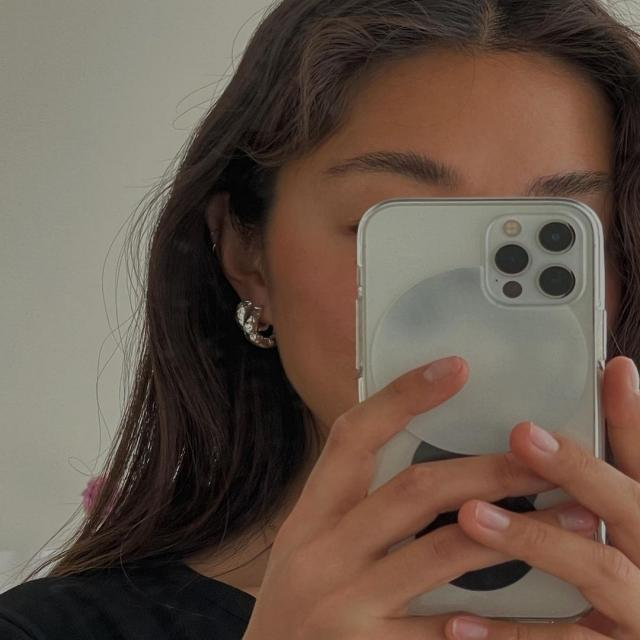phone: (358, 199, 606, 622)
